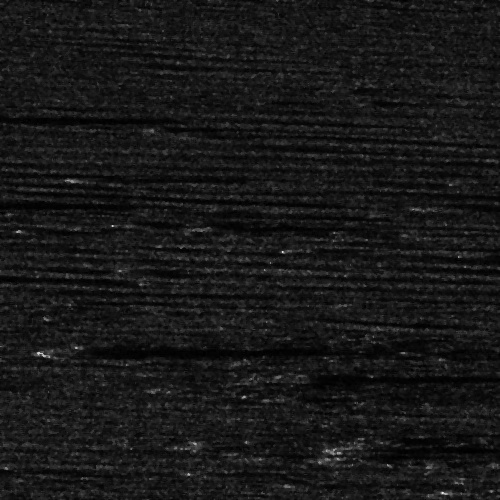object: (256, 371, 319, 382), (51, 345, 124, 354), (273, 394, 314, 401)
shadow: (88, 345, 500, 354), (288, 371, 491, 382), (294, 394, 344, 401)
